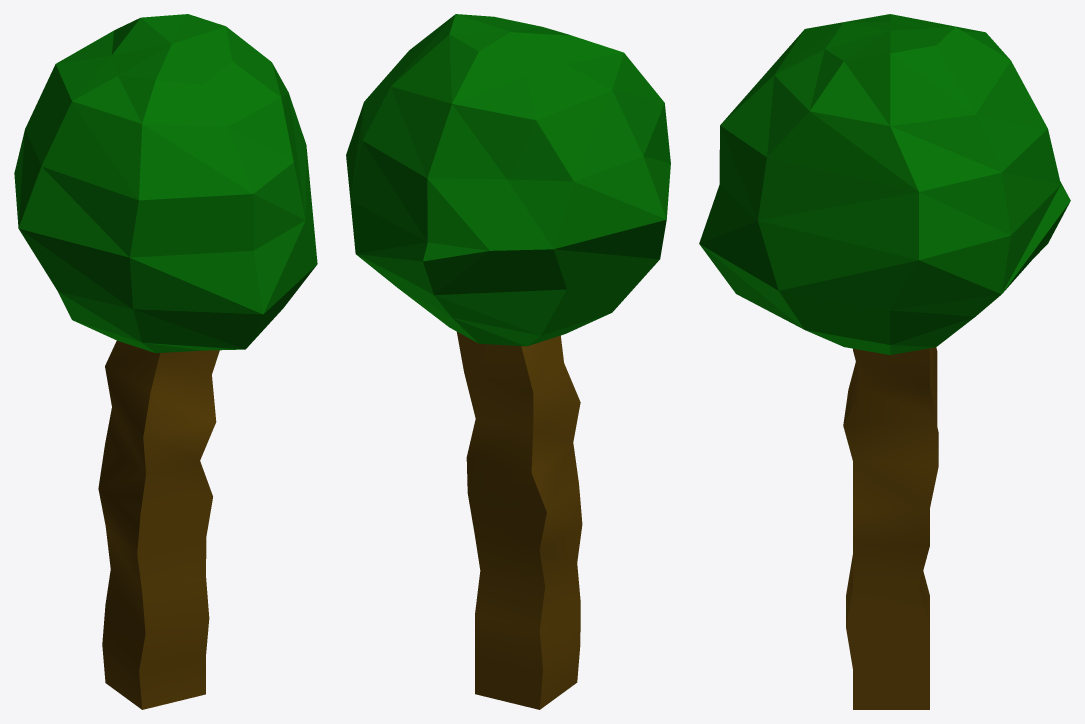
File: Tree1.fbx
The picture shows the model from 3 angles, left to right: view 1: azimuth 30°, elevation 25°; view 2: azimuth 150°, elevation 25°; view 3: azimuth 270°, elevation 25°; orthographic projection. The views are drawn at different scales.
Visible parts, largest first — view 1: pSphere1, pCube1; view 2: pSphere1, pCube1; view 3: pSphere1, pCube1.
Part boxes in pixels (bbox=[...]): pSphere1: bbox=[14, 14, 317, 353]; pCube1: bbox=[98, 340, 219, 709]; pSphere1: bbox=[346, 14, 670, 346]; pCube1: bbox=[457, 332, 582, 709]; pSphere1: bbox=[699, 14, 1070, 354]; pCube1: bbox=[843, 347, 938, 709].
Size of the model in its own units: 4.73 by 9.68 by 4.82.
